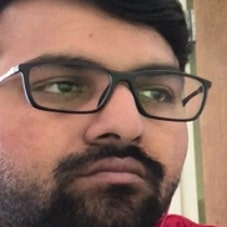awake: (13, 41, 186, 227)
